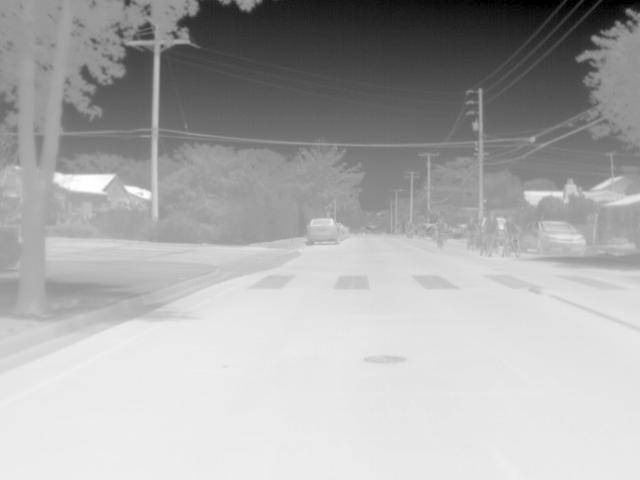car: (520, 220, 587, 260), (305, 214, 342, 246)
person: (481, 209, 501, 254), (501, 215, 520, 249), (433, 214, 448, 243), (464, 215, 479, 243)
